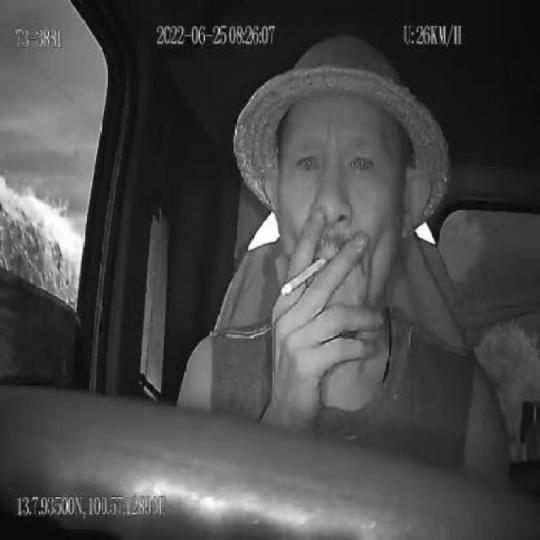smoking: (280, 256, 329, 296)
